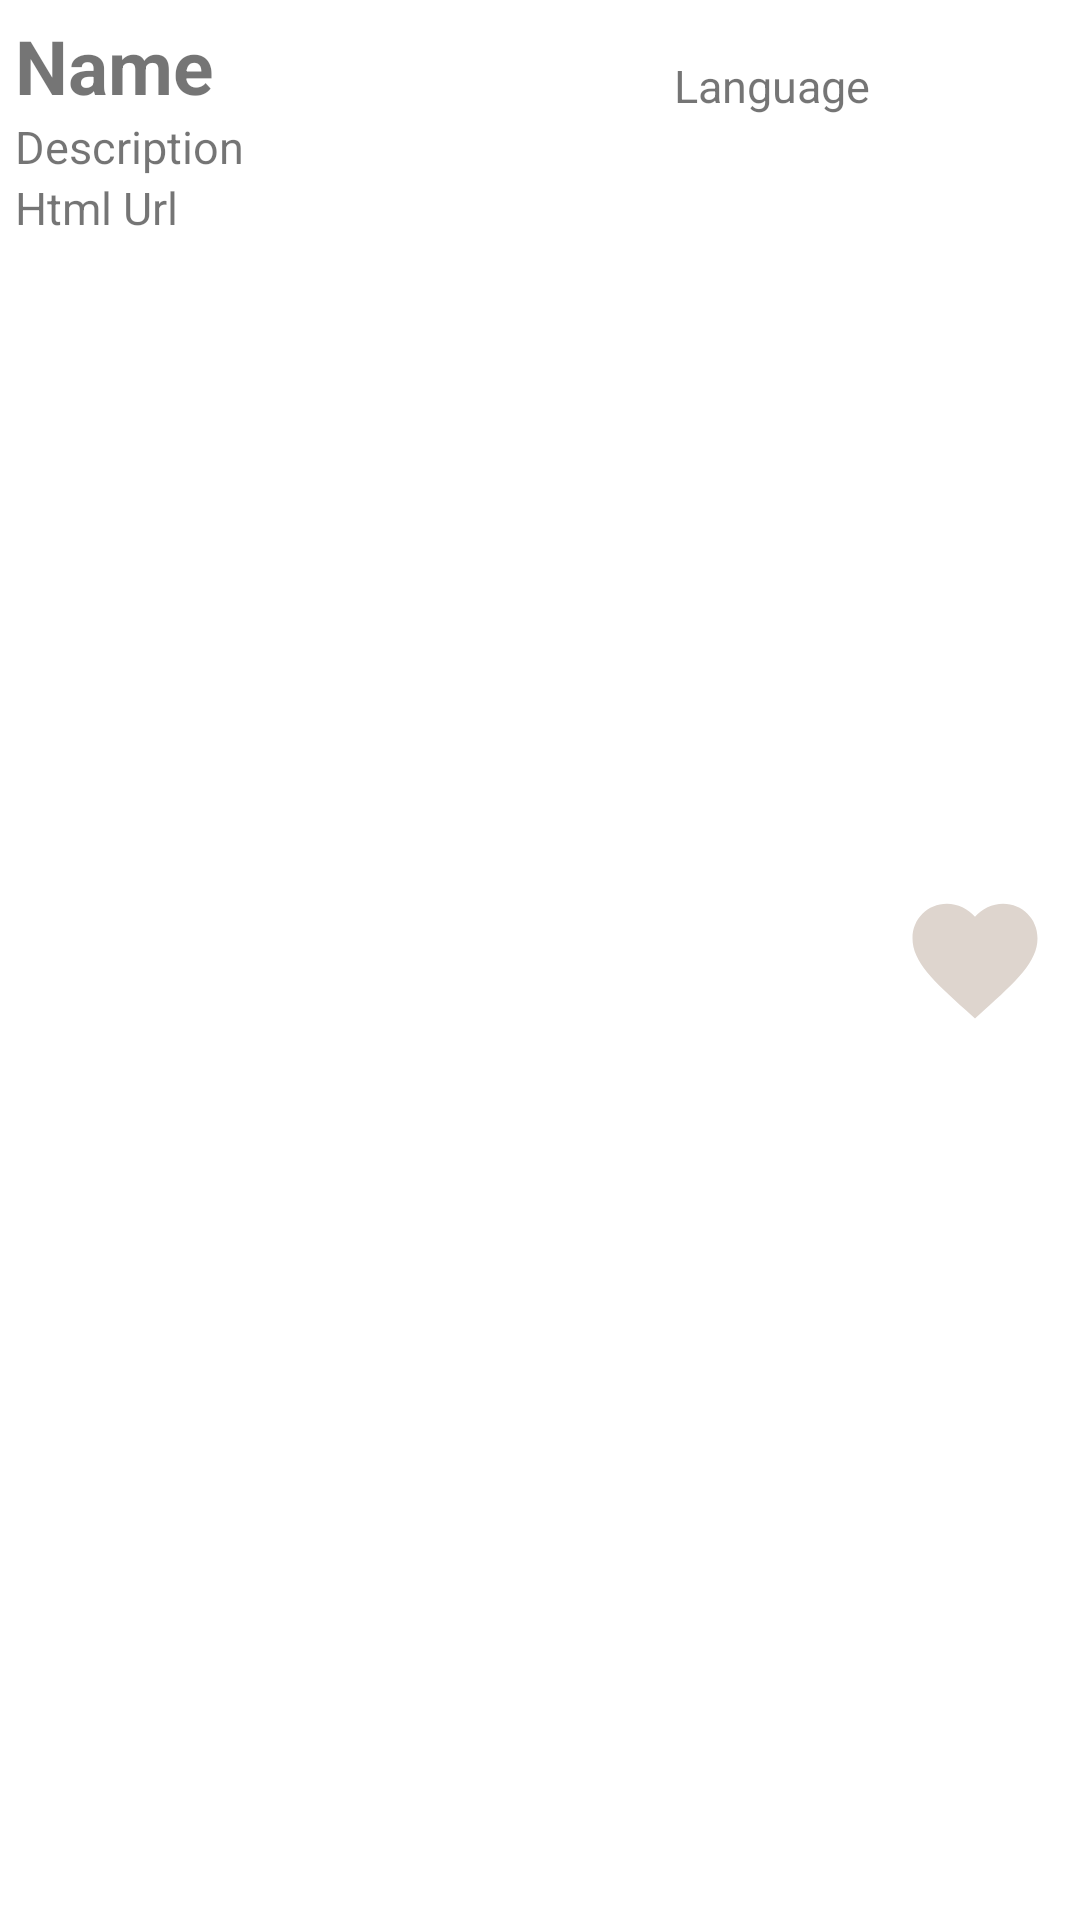

Named icons in this screenshot (1080px×1920px) and their bounding boxes, (x1, y1, x2, y2):
favorite: (913, 904, 1037, 1018)
